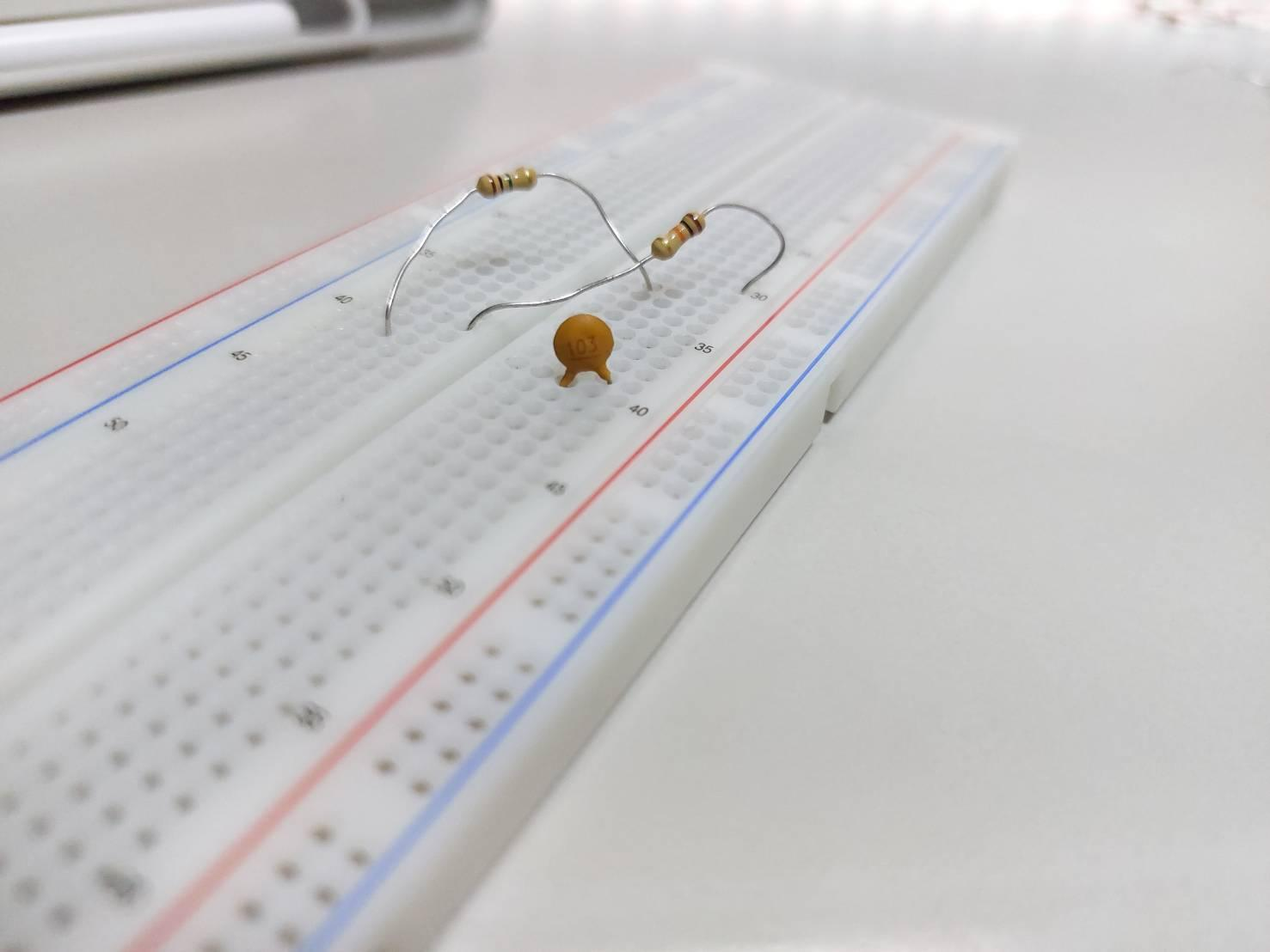resistor: (652, 210, 708, 261), (476, 165, 538, 198)
